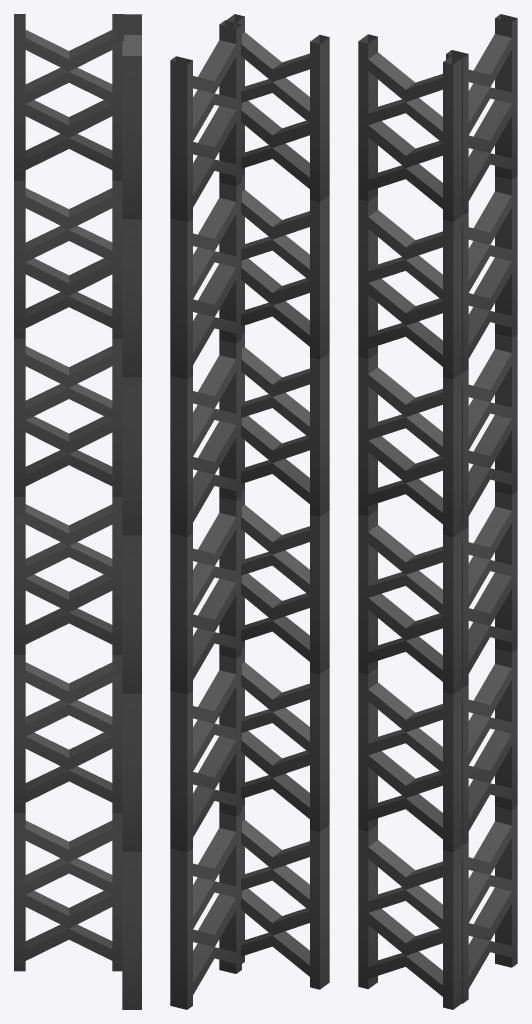
The model's file is sup_beam_3.fbx.
3 renders of one model, left to right at view 1: azimuth 90°, elevation 25°; view 2: azimuth 150°, elevation 25°; view 3: azimuth 330°, elevation 25°, orthographic.
Visible parts, largest first — view 1: sup_beam_3; view 2: sup_beam_3; view 3: sup_beam_3.
Part boxes in pixels (x1,y1,x2,y2): sup_beam_3: (14,14,141,1009); sup_beam_3: (170,14,329,1009); sup_beam_3: (358,14,517,1009).
Bounding box in the file's own units: 5.6 × 52.84 × 6.45.
Materials: 1 (1 with a texture image).
